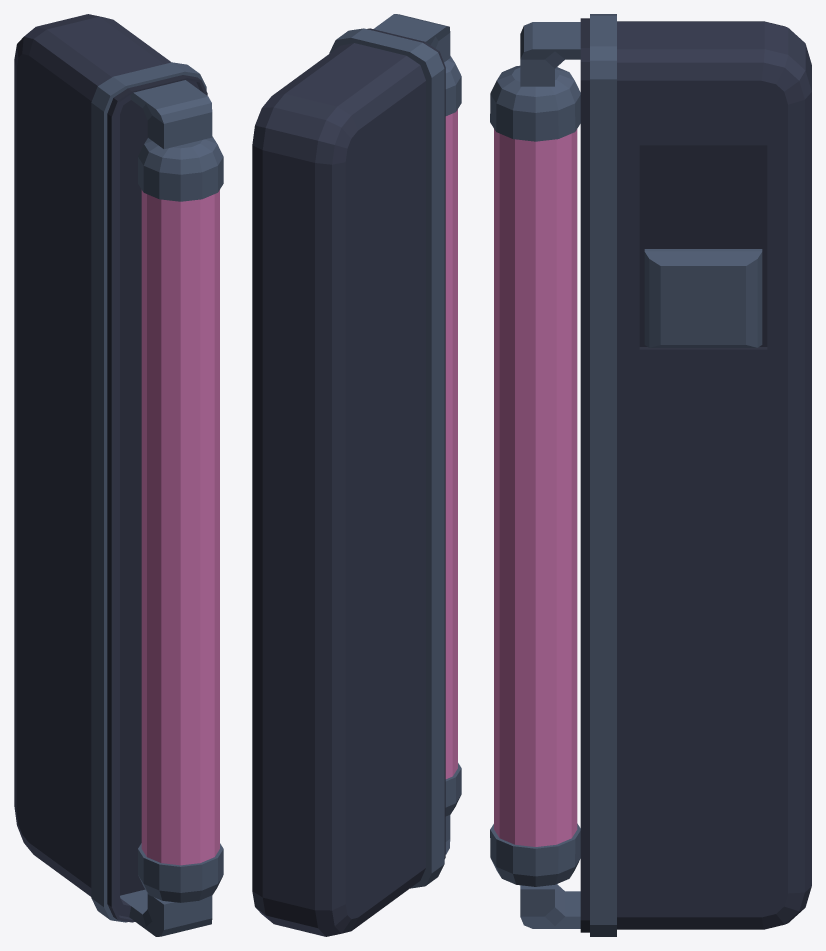
The model's file is UVHandLight.fbx.
3 renders of one model, left to right at view 1: azimuth 30°, elevation 25°; view 2: azimuth 150°, elevation 25°; view 3: azimuth 270°, elevation 25°, orthographic. The views are drawn at different scales.
Visible parts, largest first — view 1: UV Handheld Light, UV Tube; view 2: UV Handheld Light, UV Tube; view 3: UV Handheld Light, UV Tube, Power Switch.
Boxes of the visible parts, <box> form: UV Handheld Light: <box>14,14,212,936</box>; UV Tube: <box>138,136,223,902</box>; UV Handheld Light: <box>252,14,450,936</box>; UV Tube: <box>444,56,461,816</box>; UV Handheld Light: <box>520,14,811,936</box>; UV Tube: <box>490,65,580,886</box>; Power Switch: <box>644,249,762,347</box>.
Size of the model in its own units: 3.3 by 23.86 by 7.82.
